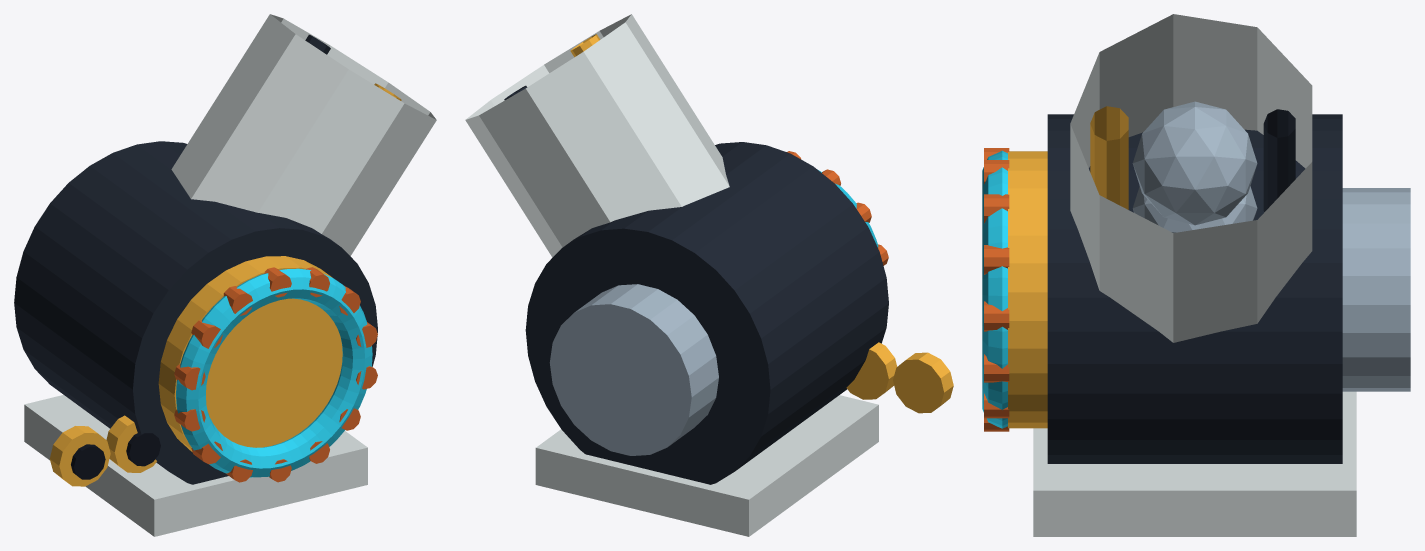
File: 08_L86_RobotJoint1BaseYaw.fbx
3 renders of one model, left to right at view 1: azimuth 30°, elevation 25°; view 2: azimuth 150°, elevation 25°; view 3: azimuth 270°, elevation 25°, orthographic. The views are drawn at different scales.
Visible parts, largest first — view 1: L86_RobotJoint1BaseYaw_Part_0005, L86_RobotJoint1BaseYaw_Part_0000, L86_RobotJoint1BaseYaw_Part_0001, L86_RobotJoint1BaseYaw_Part_0002, L86_RobotJoint1BaseYaw_Part_0004, L86_RobotJoint1BaseYaw_Part_0006, L86_RobotJoint1BaseYaw_Part_0008, L86_RobotJoint1BaseYaw_Part_0007, L86_RobotJoint1BaseYaw_Part_0009; view 2: L86_RobotJoint1BaseYaw_Part_0000, L86_RobotJoint1BaseYaw_Part_0005, L86_RobotJoint1BaseYaw_Part_0003, L86_RobotJoint1BaseYaw_Part_0006, L86_RobotJoint1BaseYaw_Part_0008; view 3: L86_RobotJoint1BaseYaw_Part_0005, L86_RobotJoint1BaseYaw_Part_0000, L86_RobotJoint1BaseYaw_Part_0003, L86_RobotJoint1BaseYaw_Part_0001, L86_RobotJoint1BaseYaw_Part_0002, L86_RobotJoint1BaseYaw_Part_0004.
Boxes of the visible parts, <box> form: L86_RobotJoint1BaseYaw_Part_0005: <box>24,14,436,536</box>; L86_RobotJoint1BaseYaw_Part_0000: <box>14,34,377,484</box>; L86_RobotJoint1BaseYaw_Part_0001: <box>158,83,401,451</box>; L86_RobotJoint1BaseYaw_Part_0002: <box>176,268,372,477</box>; L86_RobotJoint1BaseYaw_Part_0004: <box>174,267,377,482</box>; L86_RobotJoint1BaseYaw_Part_0006: <box>50,426,110,486</box>; L86_RobotJoint1BaseYaw_Part_0008: <box>106,415,156,472</box>; L86_RobotJoint1BaseYaw_Part_0007: <box>71,444,105,479</box>; L86_RobotJoint1BaseYaw_Part_0009: <box>126,432,160,466</box>; L86_RobotJoint1BaseYaw_Part_0000: <box>504,85,888,484</box>; L86_RobotJoint1BaseYaw_Part_0005: <box>465,14,878,536</box>; L86_RobotJoint1BaseYaw_Part_0003: <box>549,284,718,455</box>; L86_RobotJoint1BaseYaw_Part_0006: <box>893,352,953,413</box>; L86_RobotJoint1BaseYaw_Part_0008: <box>846,342,896,399</box>; L86_RobotJoint1BaseYaw_Part_0005: <box>1033,14,1356,536</box>; L86_RobotJoint1BaseYaw_Part_0000: <box>1047,109,1342,463</box>; L86_RobotJoint1BaseYaw_Part_0003: <box>1132,101,1410,391</box>; L86_RobotJoint1BaseYaw_Part_0001: <box>1008,106,1128,428</box>; L86_RobotJoint1BaseYaw_Part_0002: <box>982,150,1007,428</box>; L86_RobotJoint1BaseYaw_Part_0004: <box>984,148,1009,431</box>.
Bounding box in the file's own units: 106 × 99.87 × 75.5.
